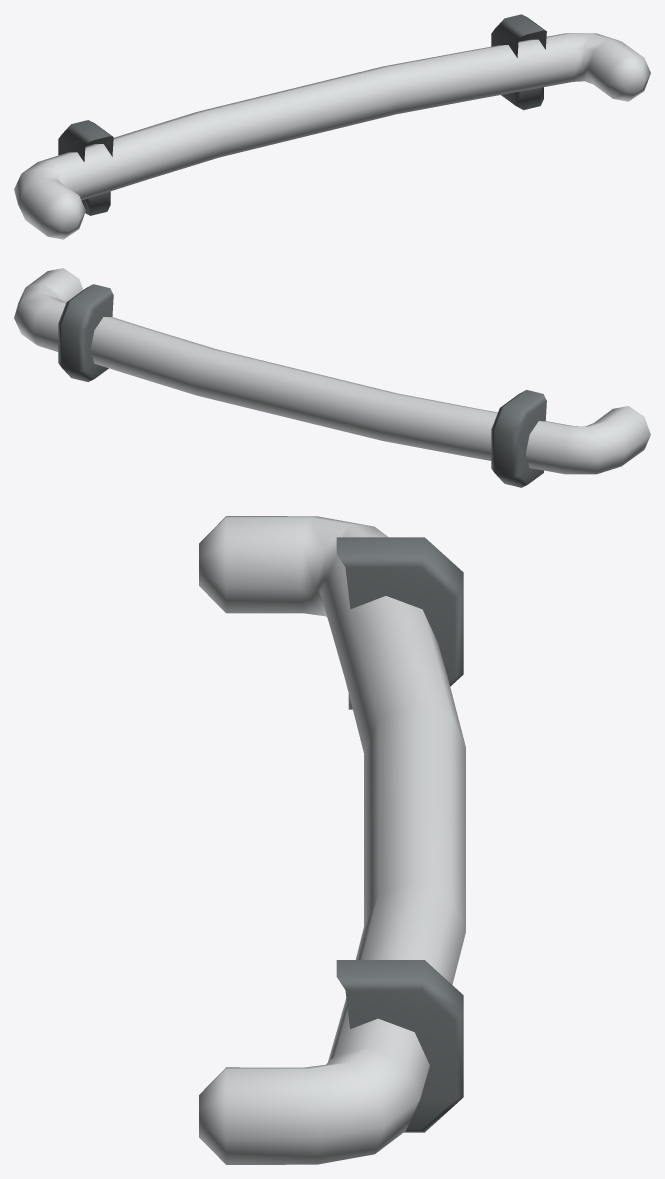
Rendered from Car_03_RearBumper_Simple.fbx.
3 views of the same model, one above another, from view 1: azimuth 30°, elevation 25°; view 2: azimuth 150°, elevation 25°; view 3: azimuth 270°, elevation 25° (orthographic). The views are drawn at different scales.
Parts seen in each view (by area): view 1: Car_03_RearBumper_Simple; view 2: Car_03_RearBumper_Simple; view 3: Car_03_RearBumper_Simple.
Part boxes in pixels (left/top/right/bottom): Car_03_RearBumper_Simple: left=14, top=14, right=650, bottom=239; Car_03_RearBumper_Simple: left=14, top=268, right=650, bottom=487; Car_03_RearBumper_Simple: left=199, top=516, right=465, bottom=1164.
Bounding box in the file's own units: 190 × 35.97 × 23.14.
